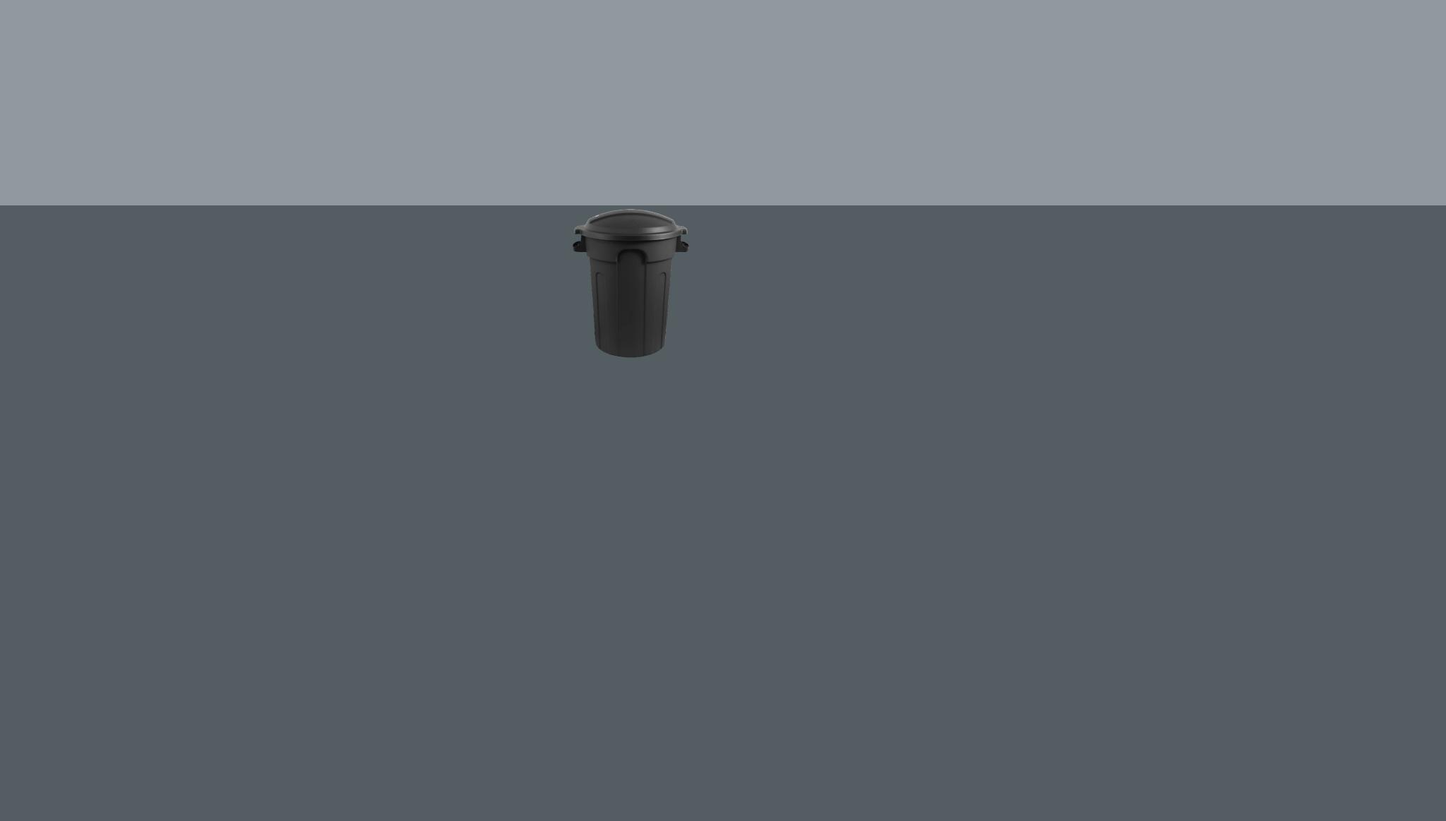garbage container: (571, 206, 692, 359)
